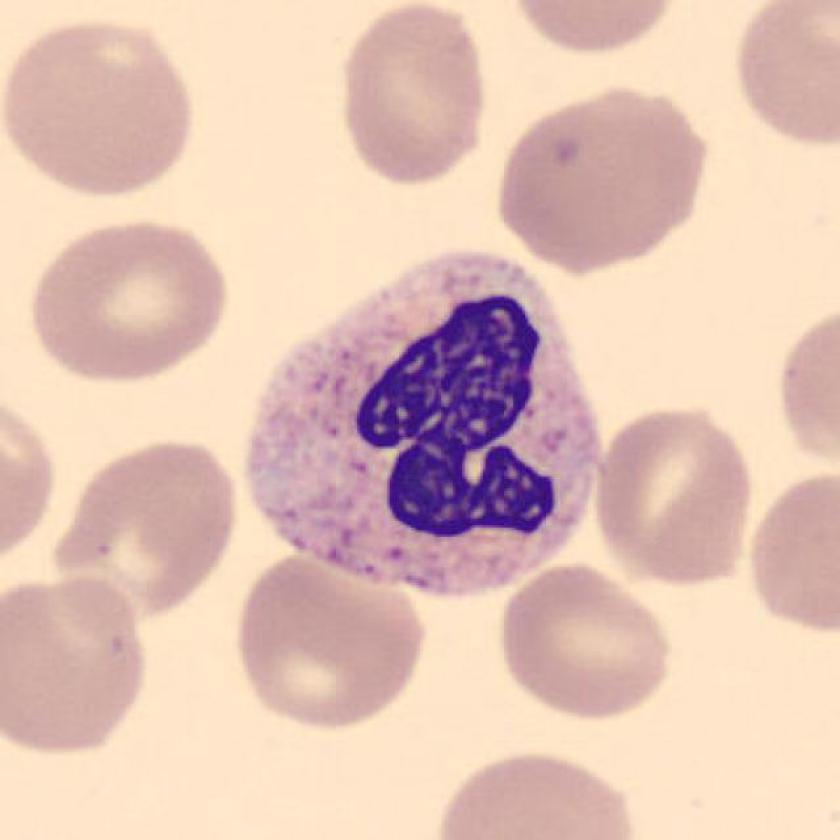neutrophil: (252, 255, 598, 591)
